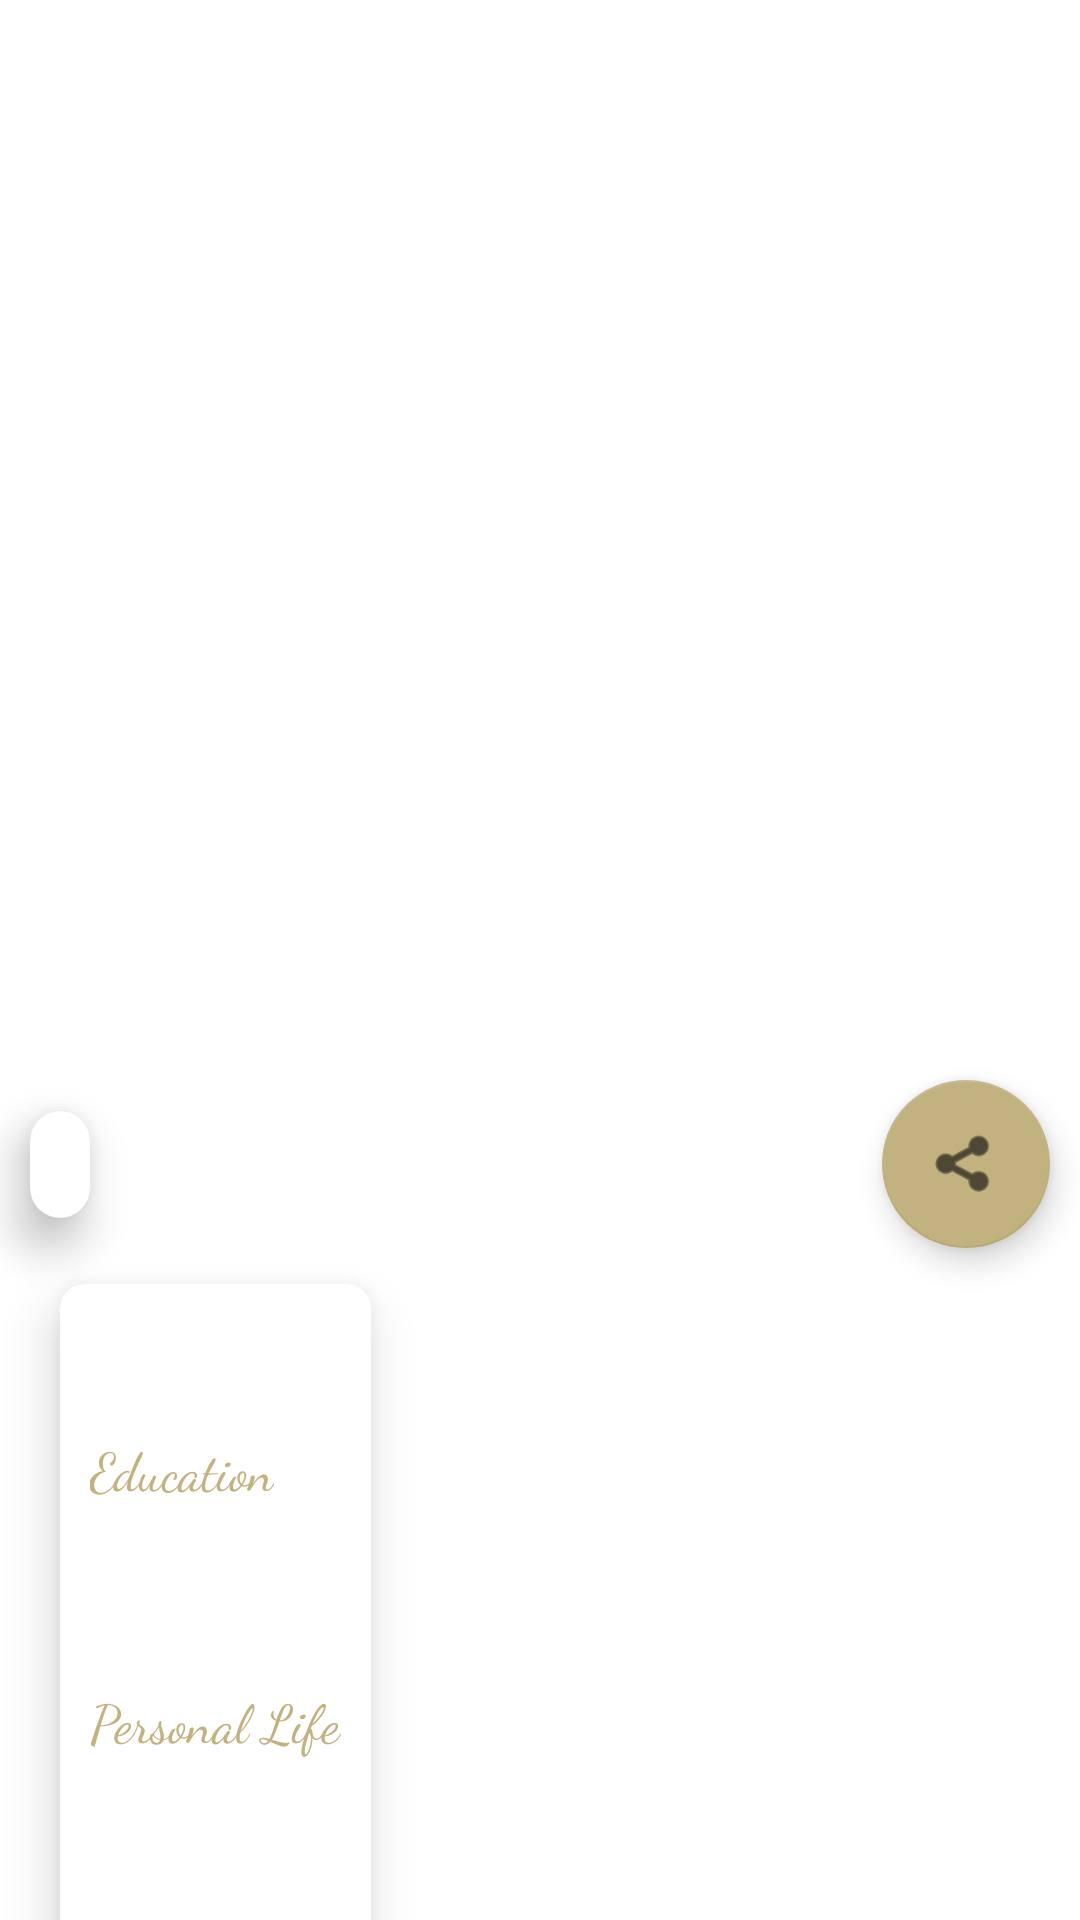

Screen size 1080x1920. Icon name, then its box in pixels as detection(x1, y1, x2, y2):
share: detection(882, 1080, 1050, 1248)
